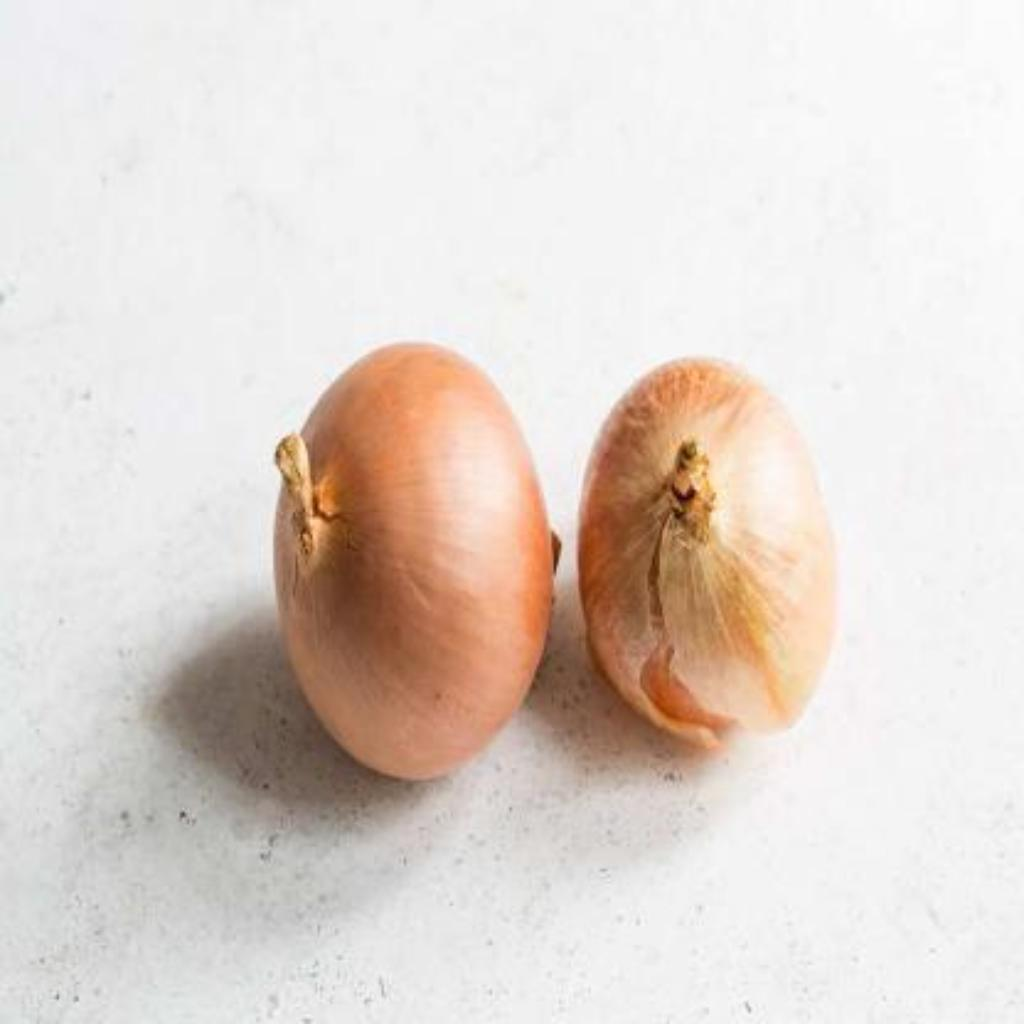Onion: (276, 345, 561, 782), (581, 359, 837, 747)
